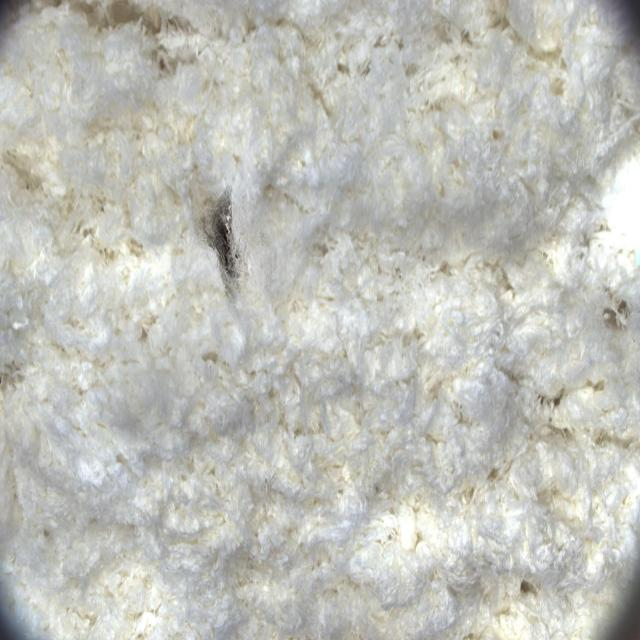dust: (161, 164, 285, 327)
